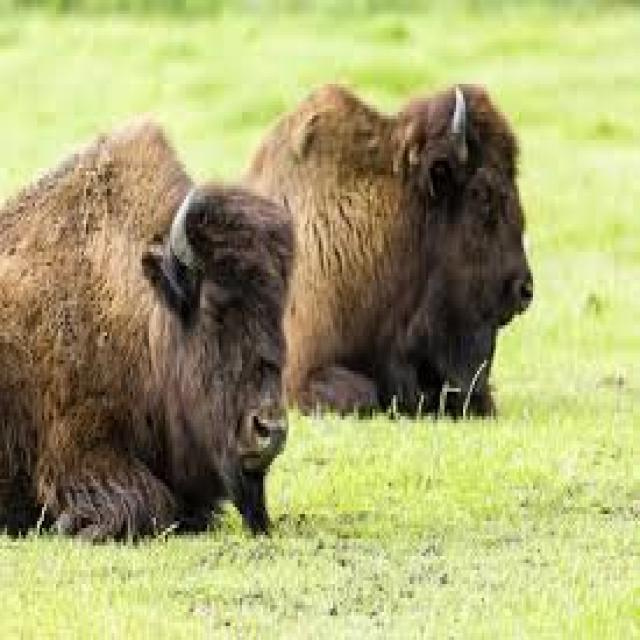Bison: (4, 113, 300, 571), (241, 71, 547, 458)
